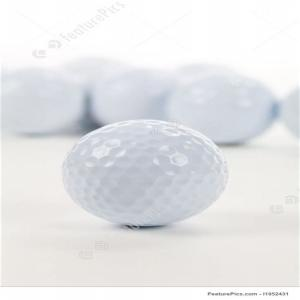Golf: (66, 122, 231, 228)
